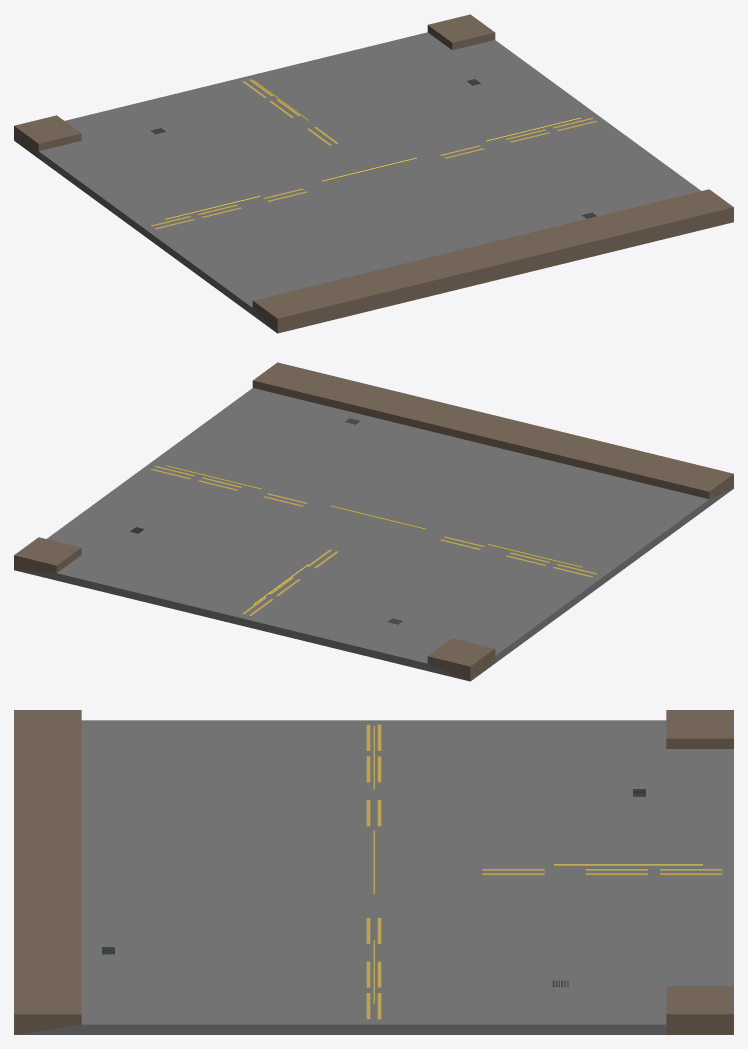
The picture shows the model from 3 angles, top to bottom: view 1: azimuth 30°, elevation 25°; view 2: azimuth 150°, elevation 25°; view 3: azimuth 270°, elevation 25°; orthographic projection. The views are drawn at different scales.
Parts seen in each view (by area): view 1: RD41 | archived geometry, Fitted street and landscape details, RD41 | line, light and sprite surfaces; view 2: RD41 | archived geometry, Fitted street and landscape details, RD41 | line, light and sprite surfaces; view 3: RD41 | archived geometry, Fitted street and landscape details, RD41 | line, light and sprite surfaces.
Part boxes in pixels (x1,y1,x2,y2): RD41 | archived geometry: [14, 14, 733, 333]; Fitted street and landscape details: [151, 79, 596, 229]; RD41 | line, light and sprite surfaces: [165, 80, 580, 219]; RD41 | archived geometry: [14, 362, 733, 681]; Fitted street and landscape details: [130, 418, 596, 624]; RD41 | line, light and sprite surfaces: [167, 465, 582, 605]; RD41 | archived geometry: [14, 710, 733, 1034]; Fitted street and landscape details: [102, 724, 722, 1019]; RD41 | line, light and sprite surfaces: [373, 725, 702, 1003].
Size of the model in its own units: 16 by 0.5 by 16.
